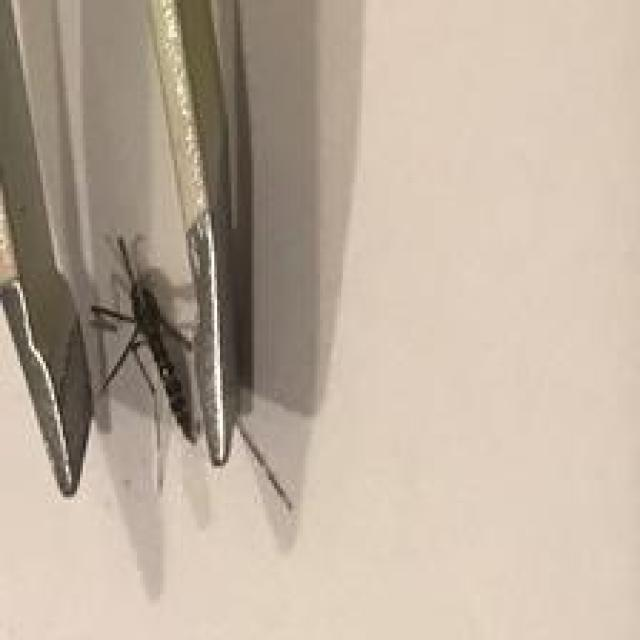Aedes albopictus: (0, 0, 297, 514)
